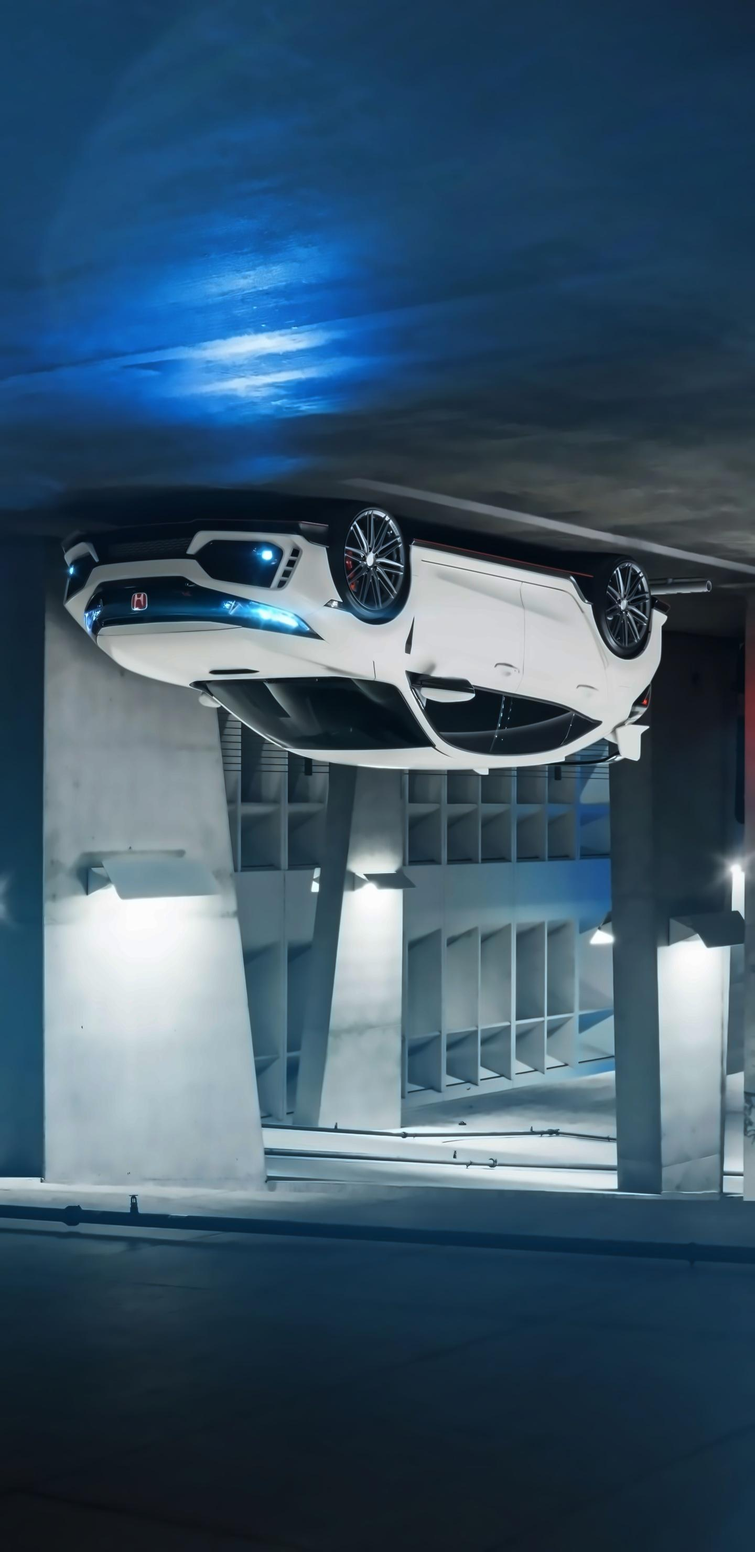Car hood: (94, 615, 376, 686)
Driver-s door - -F-R-: (415, 558, 523, 767)
Fender - -F-R-: (323, 540, 416, 686)
Fender - -R-R-: (591, 592, 649, 711)
Front bumper: (54, 513, 337, 614)
Headlight - -L-: (75, 591, 108, 636)
Headlight - -R-: (214, 594, 327, 643)
Passenger-s door - -R-R-: (524, 577, 610, 765)
Rear bumper: (647, 586, 676, 662)
Rear light - -R-: (630, 680, 657, 720)
Side bumper - -R-: (407, 535, 604, 605)
Side mirror - -L-: (188, 688, 227, 714)
Side mirror - -R-: (413, 673, 486, 706)
